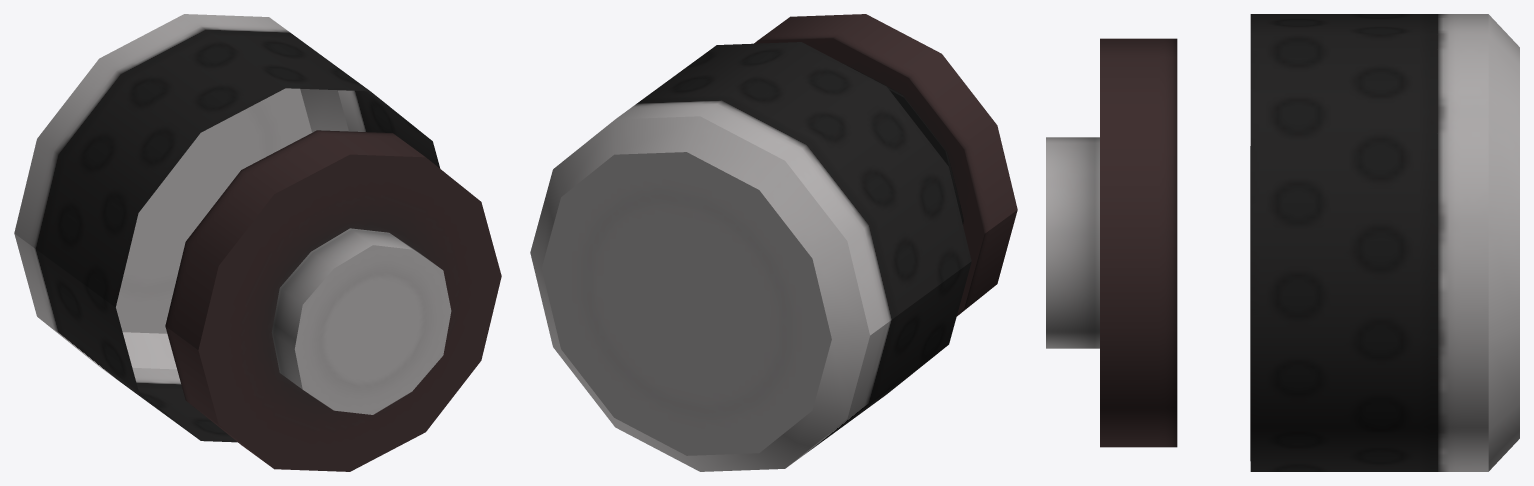
Rendered from obj_interactive_suspensionsport_05_on.fbx.
The picture shows the model from 3 angles, left to right: view 1: azimuth 30°, elevation 25°; view 2: azimuth 150°, elevation 25°; view 3: azimuth 270°, elevation 25°; orthographic projection. The views are drawn at different scales.
Visible parts, largest first — view 1: obj_interactive_suspensionsport_05_on; view 2: obj_interactive_suspensionsport_05_on; view 3: obj_interactive_suspensionsport_05_on.
Part boxes in pixels (x1,y1,x2,y2): obj_interactive_suspensionsport_05_on: (14, 14, 501, 471); obj_interactive_suspensionsport_05_on: (530, 14, 1017, 471); obj_interactive_suspensionsport_05_on: (1046, 14, 1519, 471).
Size of the model in its own units: 1.09 by 1.09 by 1.13.
